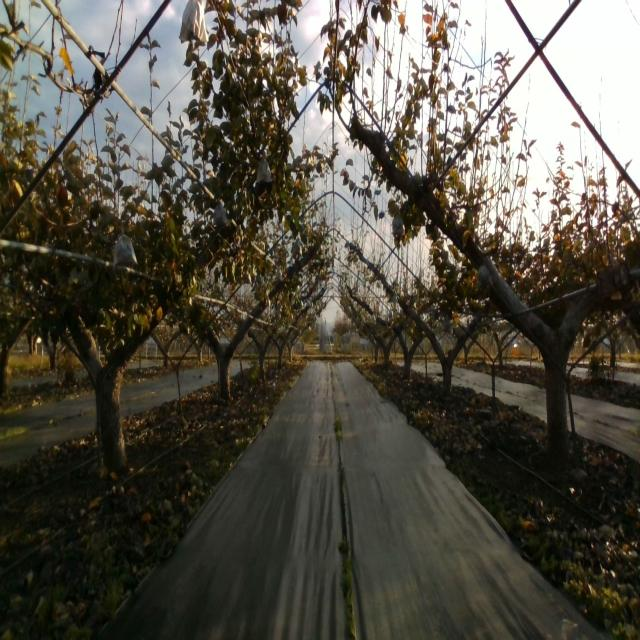pearbags: (178, 0, 206, 46), (113, 227, 138, 272), (255, 153, 273, 184), (477, 259, 494, 287), (213, 200, 228, 228), (392, 213, 406, 236)
